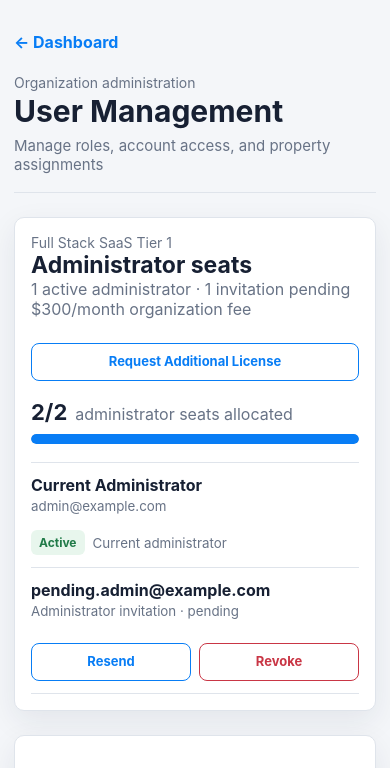
revoking a pending invitation uses an in-app confirmation and releases the invitation
The width and height of the screenshot is (390, 768).
Click the button "Revoke": point(279, 662) 199,643 -> 359,681
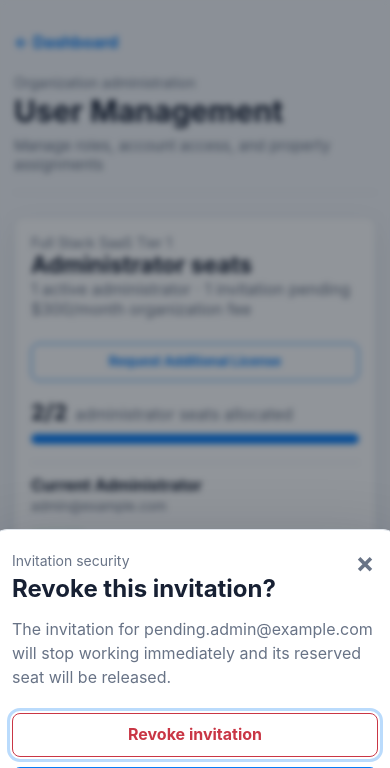
Now the dialog "Revoke this invitation?" shows "pending.admin@example.com", box 12,619 -> 373,687
Click the button "Revoke invitation": point(195, 735) 12,713 -> 378,757
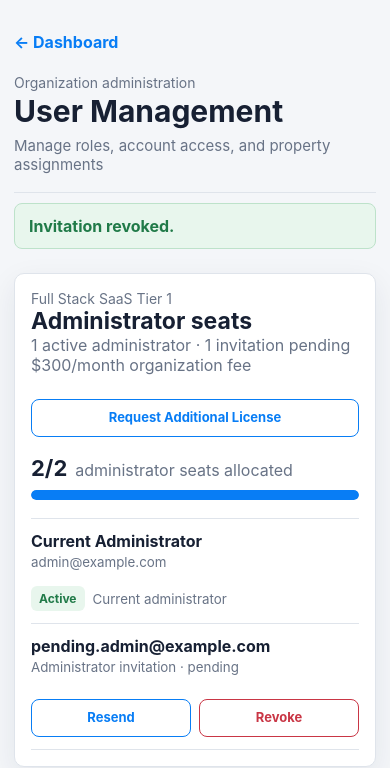
Now the message reads "Invitation revoked.", box 29,216 -> 174,236
